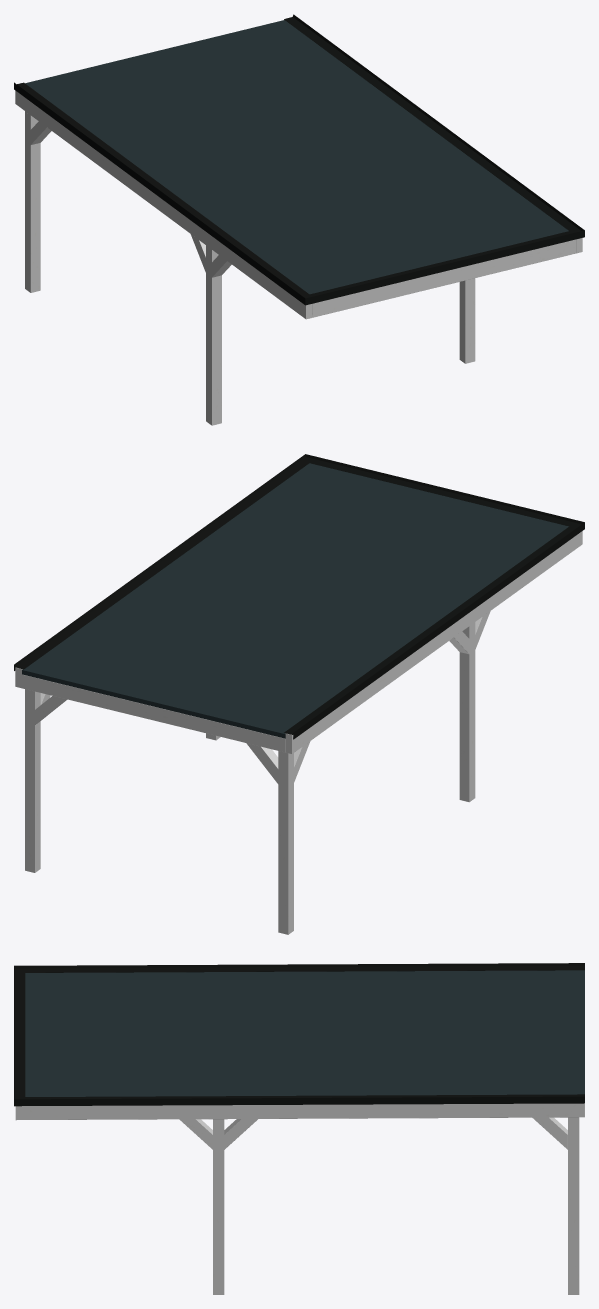
Rendered from carport_1_1.glb.
3 views of the same model, one above another, from view 1: azimuth 30°, elevation 25°; view 2: azimuth 150°, elevation 25°; view 3: azimuth 270°, elevation 25° (orthographic). The views are drawn at different scales.
Parts seen in each view (by area): view 1: roofFlat_panelling_base.GLB.roofFlatClone, roofFlat_cover_base.GLB.roofFlatClone, roofFlat_frame_base.GLB.roofFlatClone, post120_forkDouble_base.Post_Left_1, post120_forkFront_base.Post_Left_0, post120_forkDouble_base.Post_Right_1; view 2: roofFlat_panelling_base.GLB.roofFlatClone, roofFlat_cover_base.GLB.roofFlatClone, roofFlat_frame_base.GLB.roofFlatClone, post120_forkFront_base.Post_Left_0, post120_forkBack_base.Post_Right_0, post120_forkDouble_base.Post_Left_1; view 3: roofFlat_panelling_base.GLB.roofFlatClone, roofFlat_cover_base.GLB.roofFlatClone, roofFlat_frame_base.GLB.roofFlatClone, post120_forkDouble_base.Post_Right_1, post120_forkBack_base.Post_Right_0.
Boxes of the visible parts, box(x1,y1,x2,y2) form: roofFlat_panelling_base.GLB.roofFlatClone: box(25, 20, 568, 294); roofFlat_cover_base.GLB.roofFlatClone: box(14, 14, 584, 305); roofFlat_frame_base.GLB.roofFlatClone: box(15, 90, 582, 319); post120_forkDouble_base.Post_Left_1: box(190, 234, 231, 425); post120_forkFront_base.Post_Left_0: box(25, 111, 51, 292); post120_forkDouble_base.Post_Right_1: box(459, 278, 475, 363); roofFlat_panelling_base.GLB.roofFlatClone: box(22, 463, 568, 738); roofFlat_cover_base.GLB.roofFlatClone: box(14, 454, 584, 739); roofFlat_frame_base.GLB.roofFlatClone: box(15, 531, 582, 753); post120_forkFront_base.Post_Left_0: box(246, 741, 310, 934); post120_forkBack_base.Post_Right_0: box(25, 689, 67, 872); post120_forkDouble_base.Post_Left_1: box(449, 611, 490, 802); roofFlat_panelling_base.GLB.roofFlatClone: box(25, 970, 584, 1096); roofFlat_cover_base.GLB.roofFlatClone: box(14, 963, 584, 1106); roofFlat_frame_base.GLB.roofFlatClone: box(15, 1103, 584, 1120); post120_forkDouble_base.Post_Right_1: box(179, 1119, 257, 1294); post120_forkBack_base.Post_Right_0: box(532, 1117, 579, 1294).
Bounding box in the file's own units: 3.33 × 2.35 × 6.02.
8 materials, 6 textured.
